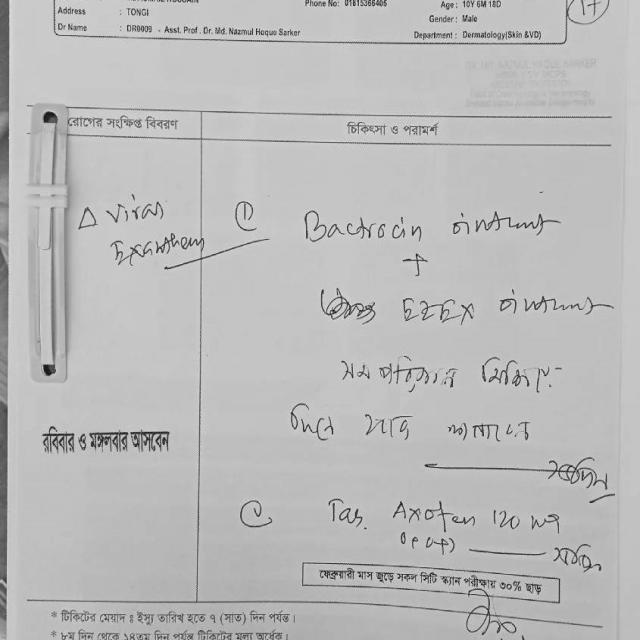medicine: (290, 194, 428, 254), (385, 484, 480, 534), (398, 290, 480, 332)
